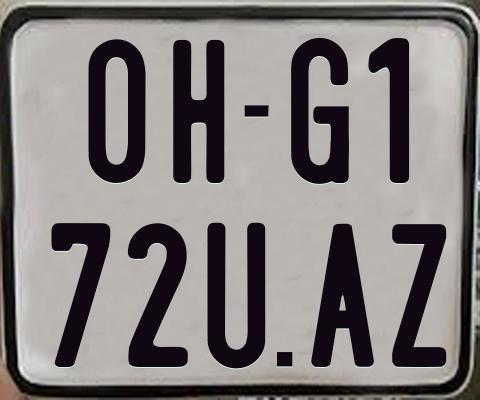0: (88, 36, 146, 182)
1: (368, 37, 412, 188)
2: (125, 222, 185, 366)
7: (49, 222, 109, 371)
A: (310, 224, 374, 370)
G: (290, 38, 350, 184)
H: (171, 38, 227, 187)
U: (206, 220, 268, 371)
Z: (389, 221, 449, 368)
